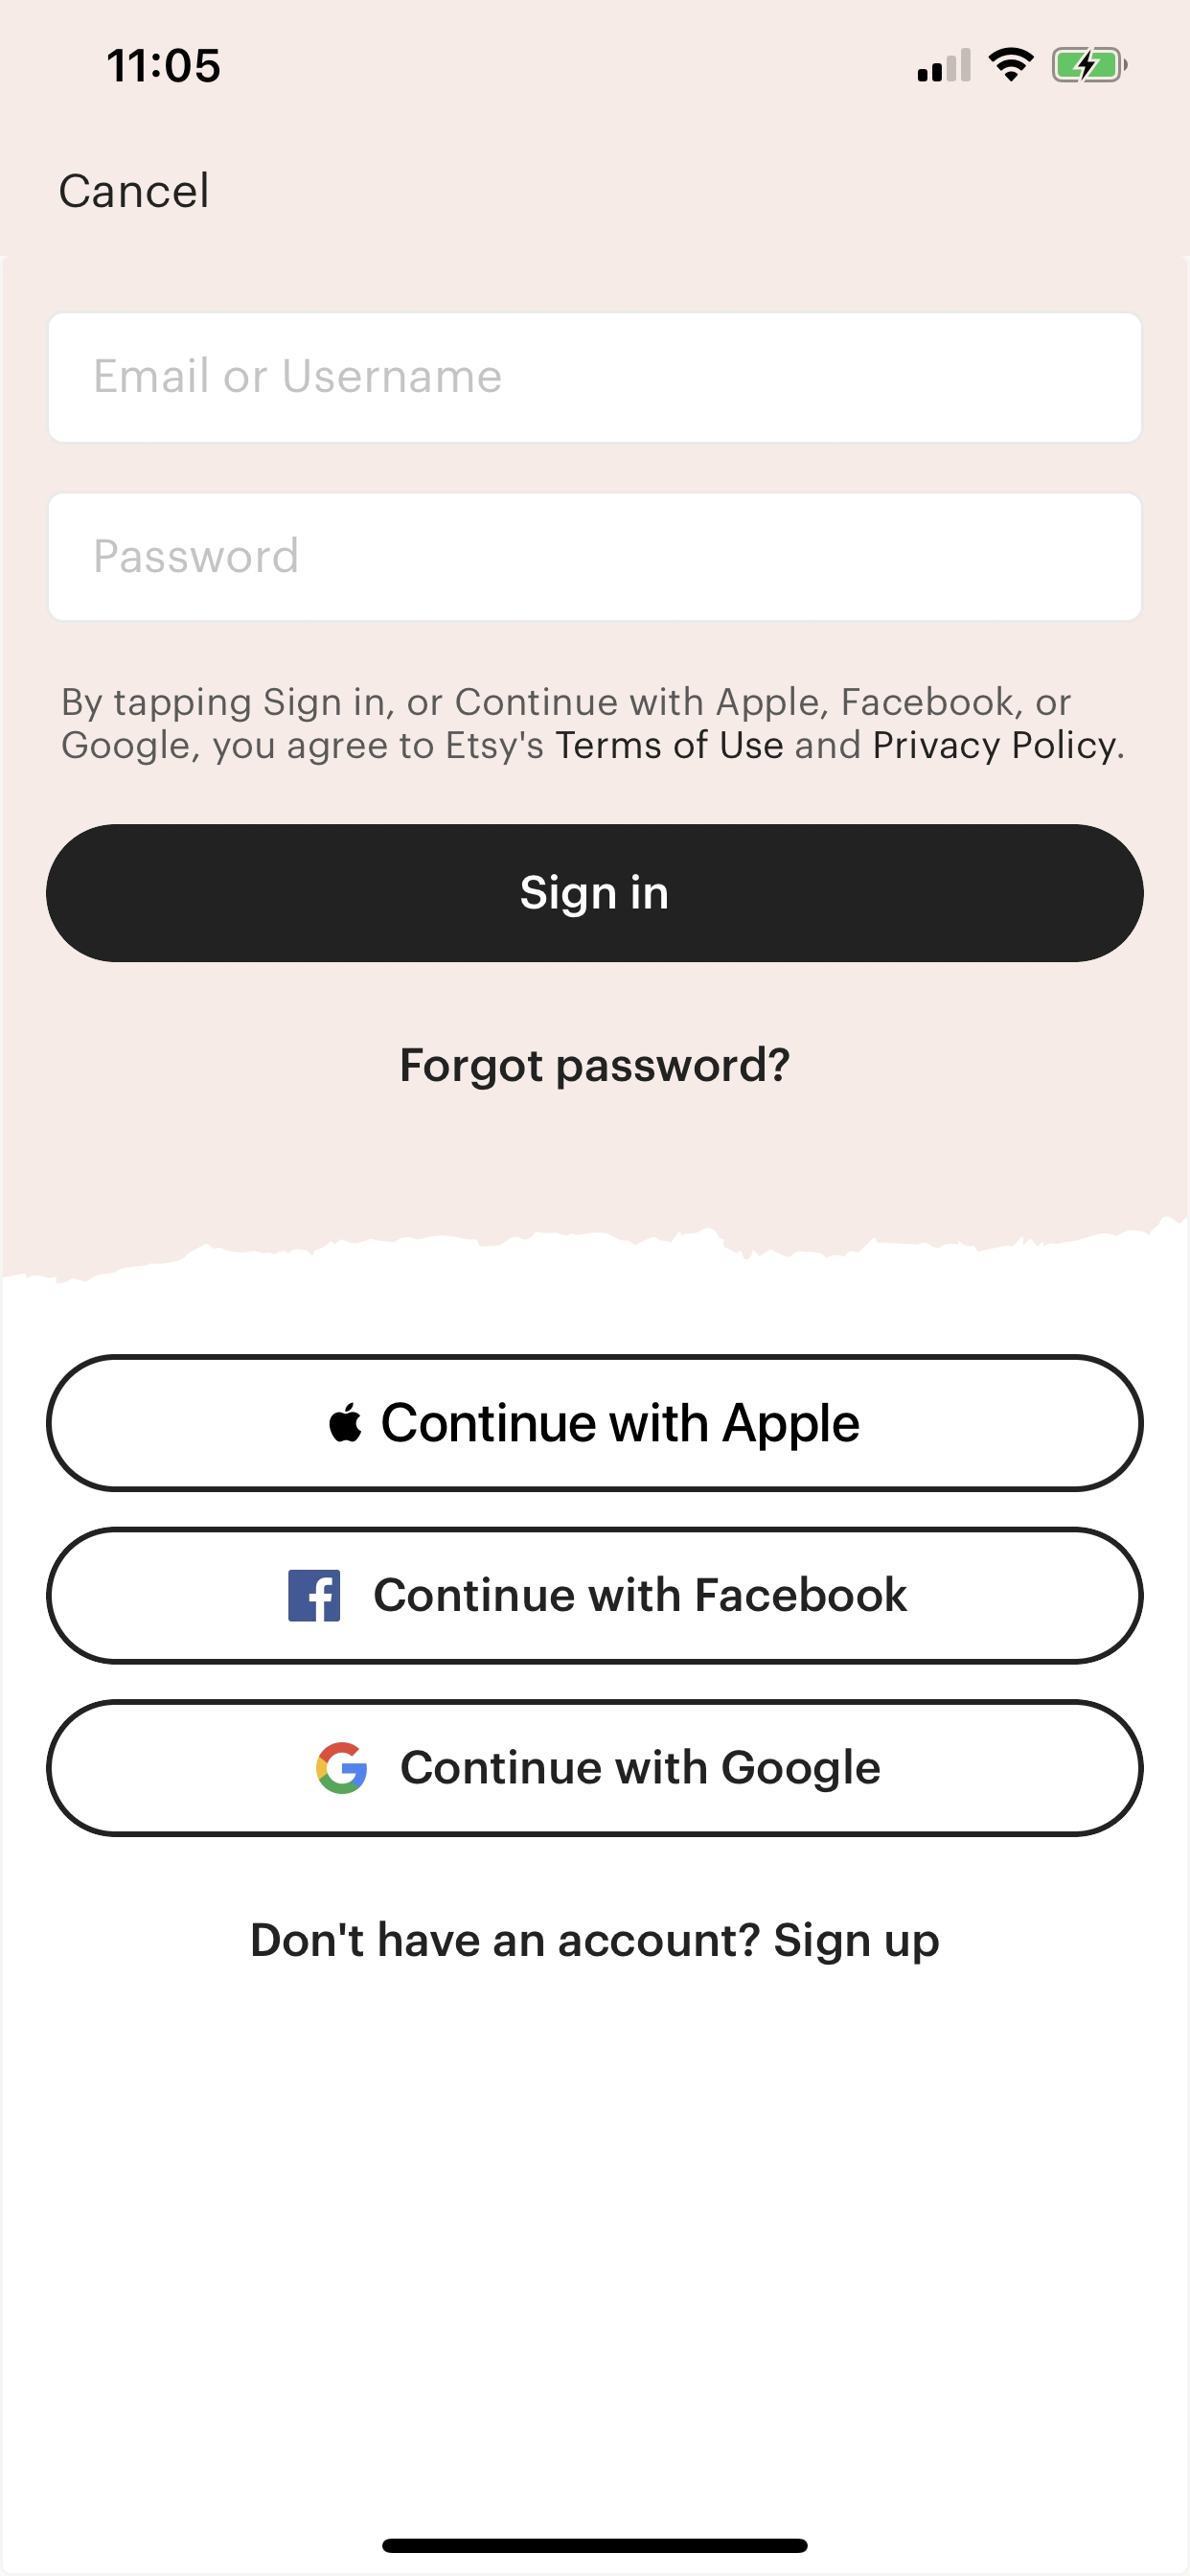EditText: (48, 310, 1141, 445), (48, 491, 1141, 623), (62, 687, 1123, 766)
Text: (251, 1920, 939, 1965), (401, 1045, 789, 1091), (95, 358, 501, 394), (95, 537, 297, 573), (59, 171, 207, 209)
TextButton: (46, 1354, 1144, 1492), (46, 1526, 1144, 1664), (46, 1699, 1144, 1837), (46, 825, 1144, 963)
UpperTaskBar: (107, 48, 1128, 84)
